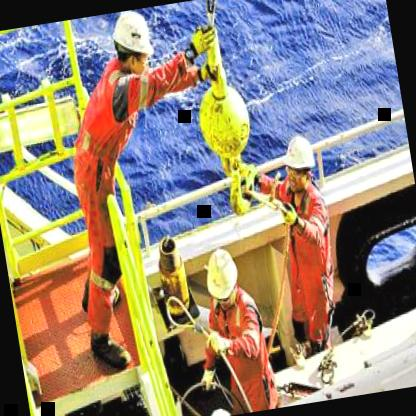helmet: (103, 7, 158, 83), (196, 242, 246, 314), (280, 128, 319, 195)
